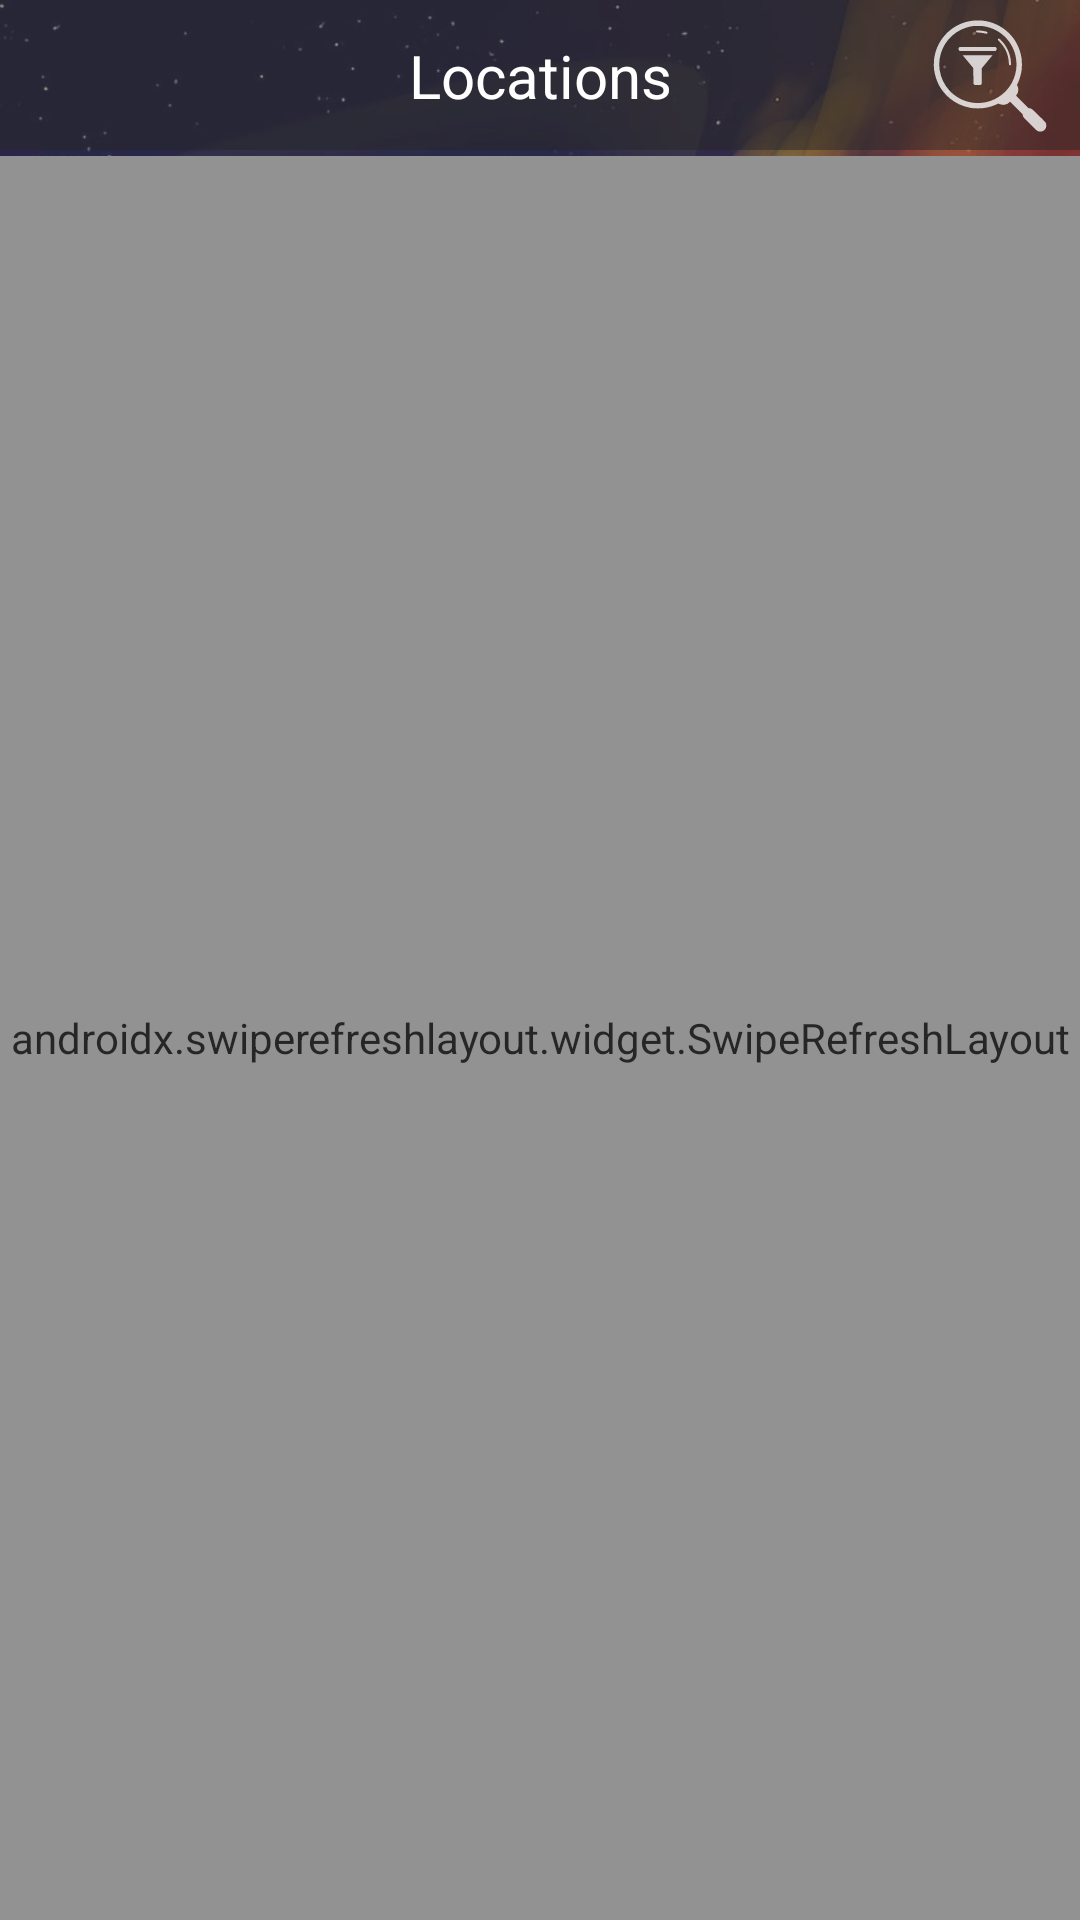

Icons on this 1080 × 1920 Android screen, each with its box as [x1,y1,x2,y2]:
filter: [921,15,1056,136]
